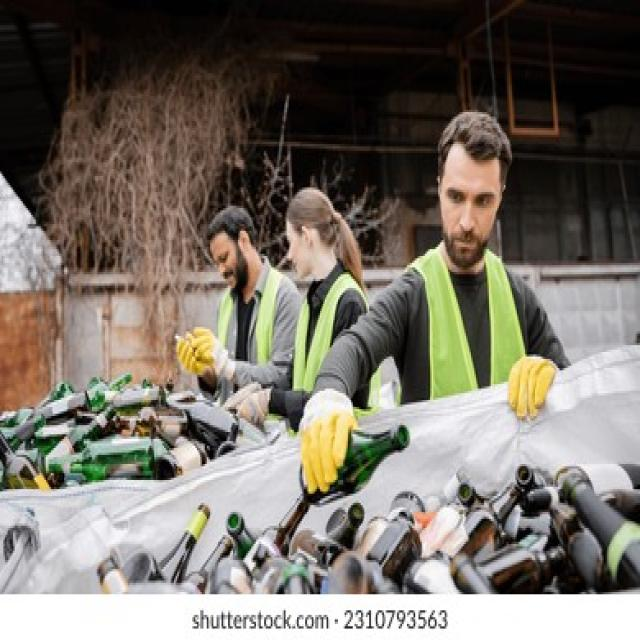glass: (394, 457, 610, 594), (105, 498, 379, 585), (28, 400, 231, 487), (340, 432, 417, 471)
